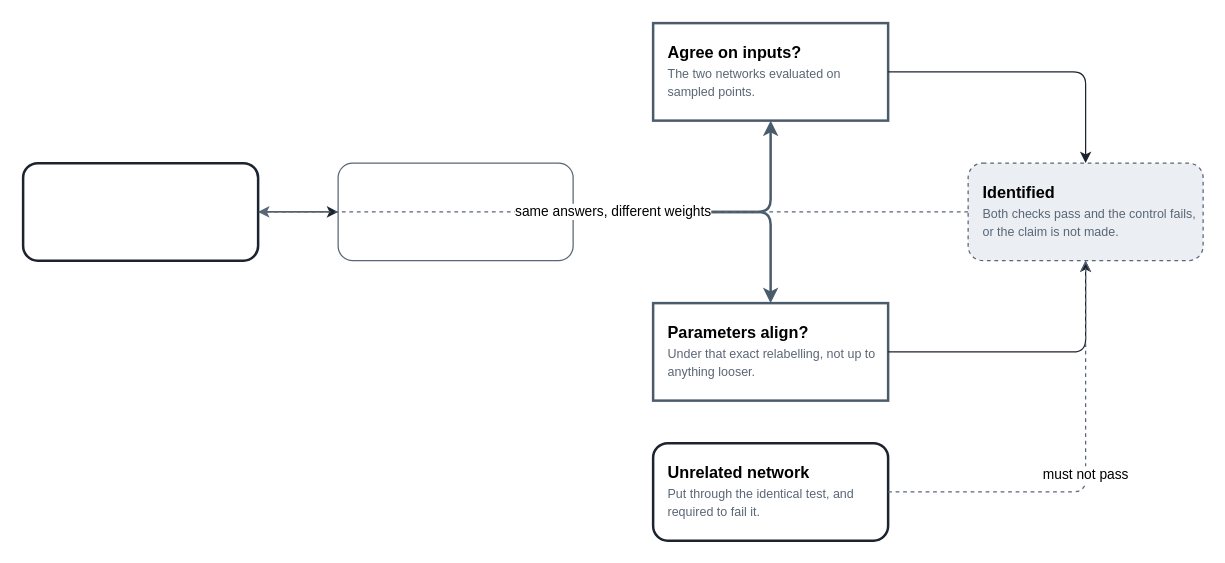
Some shapes in this 1225 by 563 pixel diagram are drawn without their labels. The centre of each missing label's shape, as x and y in pixels:
"A small network Fully connected, small enough to reason about exhaustively." belongs at point (140, 211).
"Relabelled and flipped Hidden units permuted, and two of them sign-flipped." belongs at point (455, 211).
